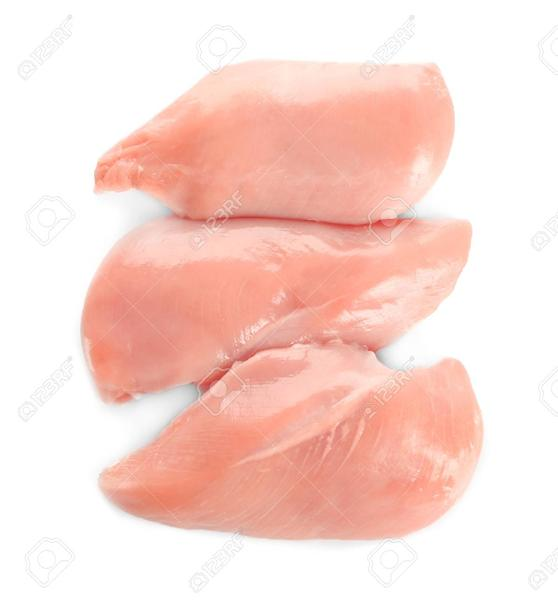chicken_fillet: (96, 330, 492, 550), (75, 205, 486, 396), (95, 57, 463, 227)
